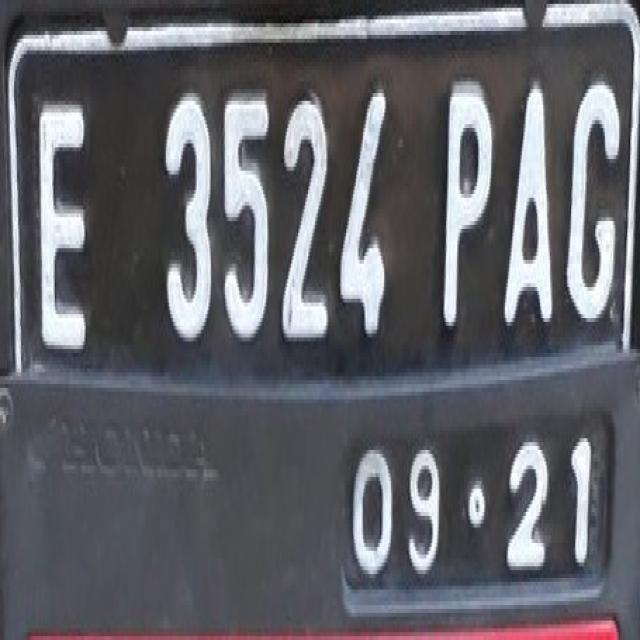plate: (5, 16, 636, 624)
